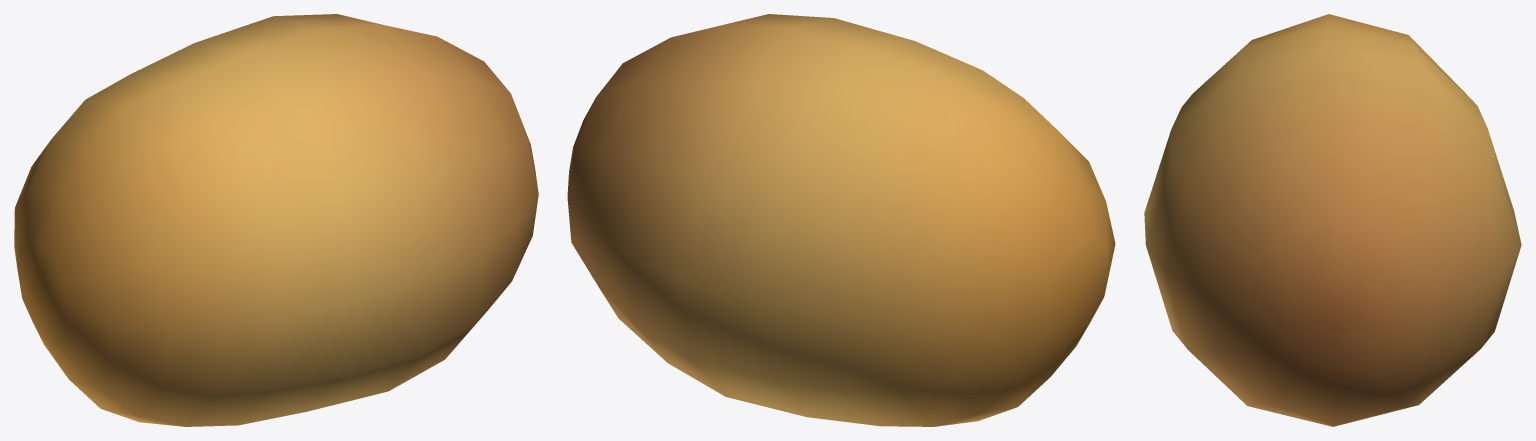
Rendered from Potato.fbx.
3 views of the same model, side by side, from view 1: azimuth 30°, elevation 25°; view 2: azimuth 150°, elevation 25°; view 3: azimuth 270°, elevation 25° (orthographic). The views are drawn at different scales.
Visible parts, largest first — view 1: Potato; view 2: Potato; view 3: Potato.
Part boxes in pixels (bbox=[...]): Potato: bbox=[14, 14, 538, 426]; Potato: bbox=[567, 14, 1115, 426]; Potato: bbox=[1144, 14, 1521, 426].
Size of the model in its own units: 4.9 by 3.44 by 3.53.
